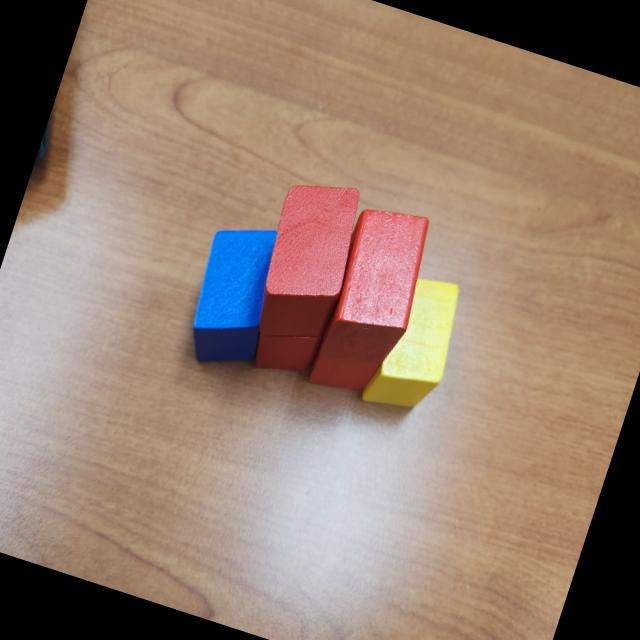blue: (174, 213, 296, 380)
red: (242, 168, 374, 356), (312, 197, 440, 378), (248, 314, 324, 386), (306, 343, 381, 402)
yellow: (360, 267, 472, 424)
